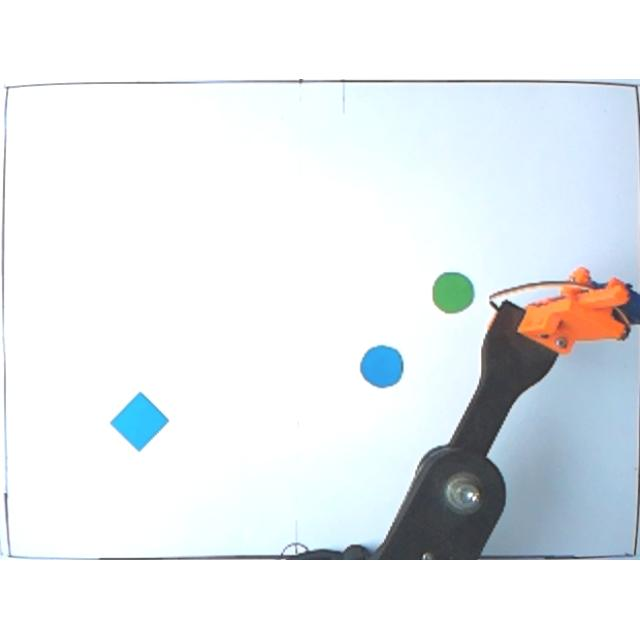blueCircle: (360, 345, 404, 391)
blueSquare: (110, 392, 170, 452)
greenCircle: (428, 270, 476, 316)
